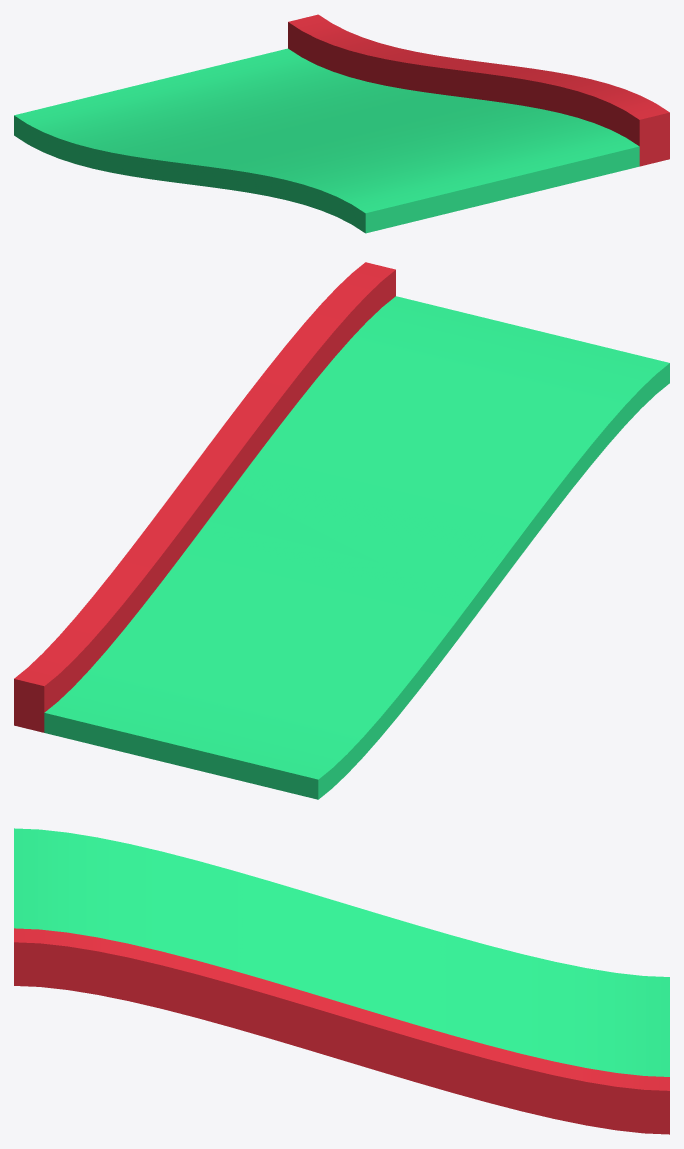
The model's file is rampLargeSide.fbx.
3 renders of one model, top to bottom at view 1: azimuth 30°, elevation 25°; view 2: azimuth 150°, elevation 25°; view 3: azimuth 270°, elevation 25°, orthographic. The views are drawn at different scales.
Parts seen in each view (by area): view 1: rampLargeSide; view 2: rampLargeSide; view 3: rampLargeSide.
Boxes of the visible parts, x1=… form: rampLargeSide: x1=14, y1=14, x2=669, y2=233; rampLargeSide: x1=14, y1=262, x2=669, y2=799; rampLargeSide: x1=14, y1=828, x2=669, y2=1134.
Size of the model in its own units: 10 by 6.47 by 20.
